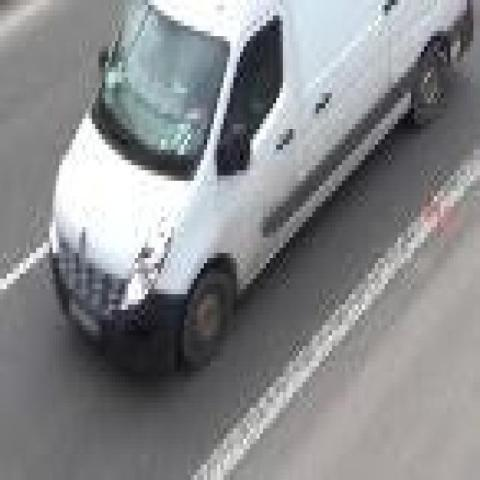van: (47, 0, 472, 371)
